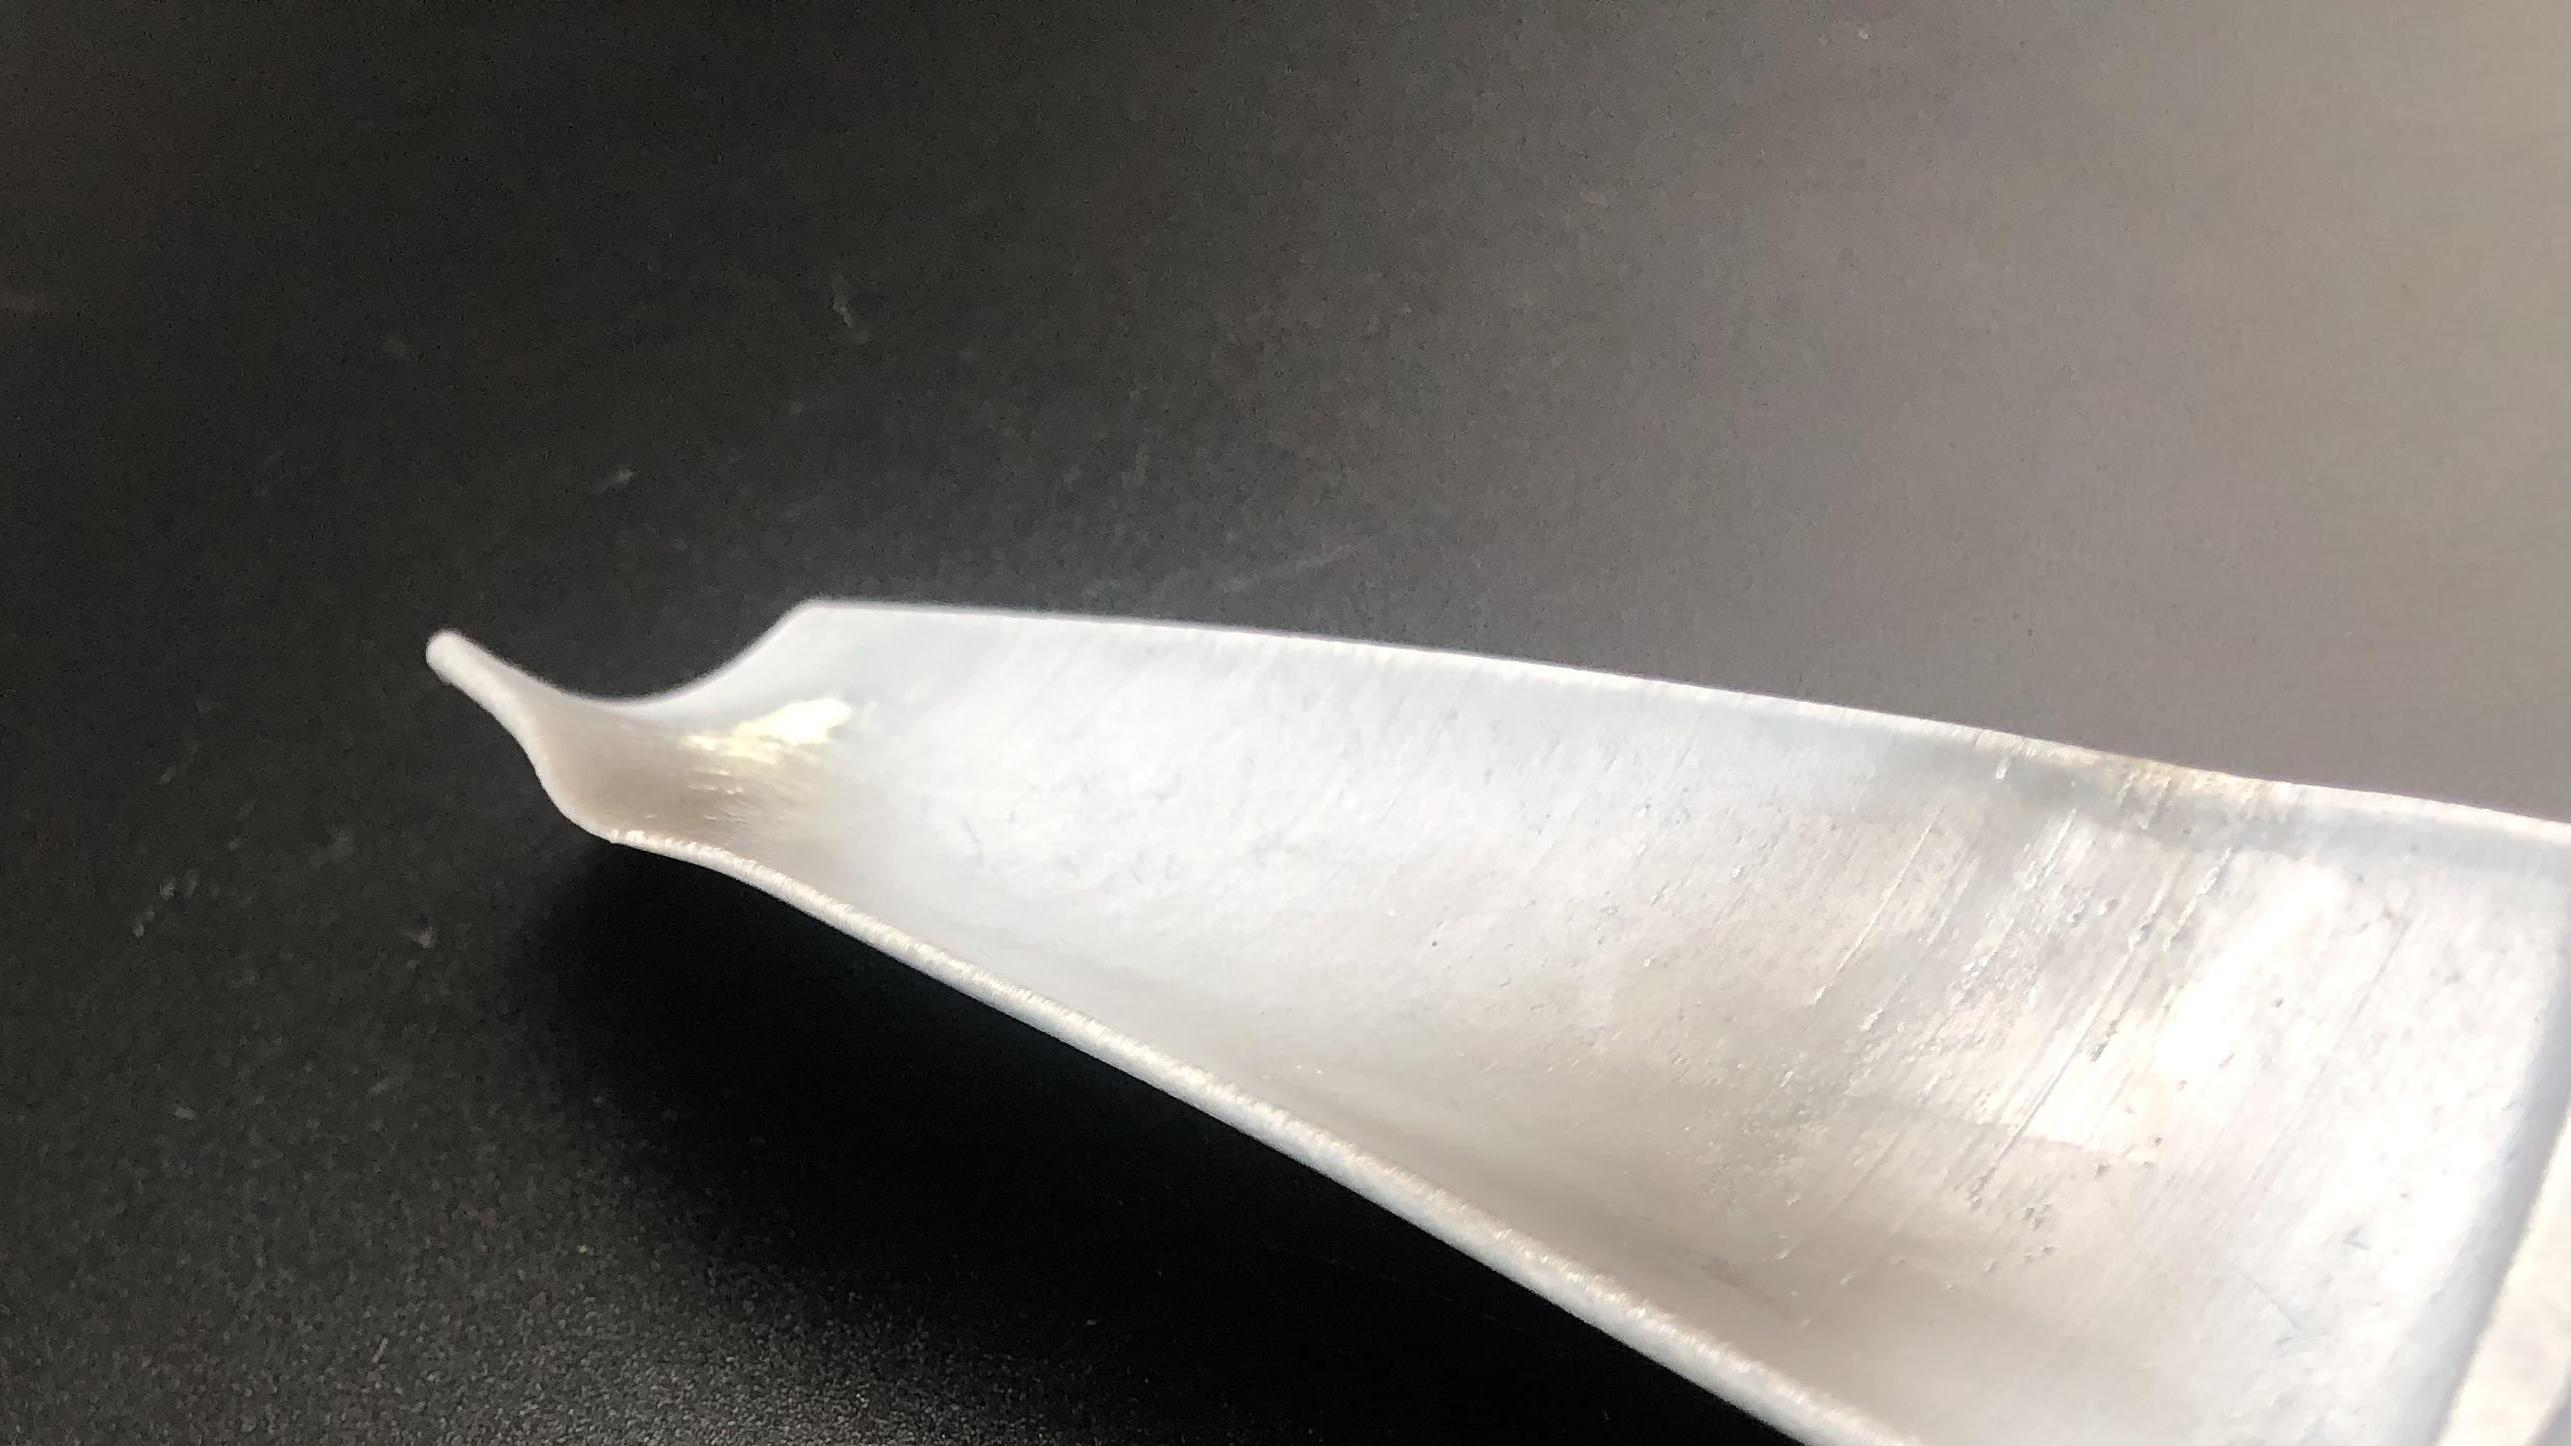ablation: (1660, 795, 2082, 1400), (532, 676, 825, 846)
